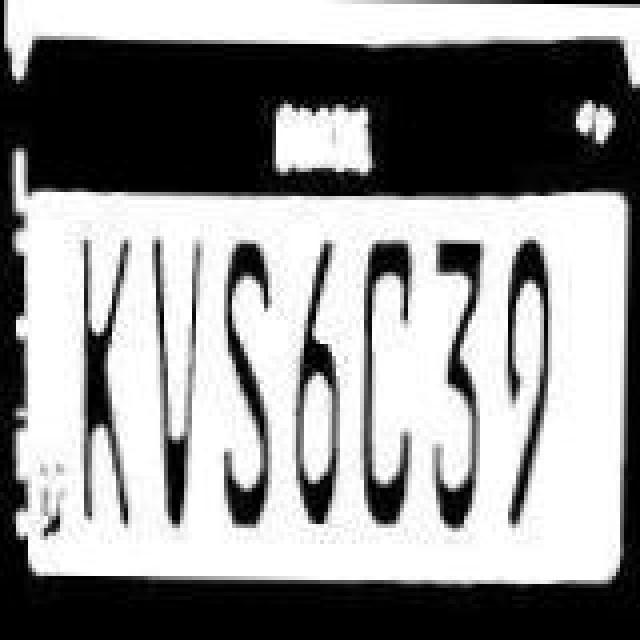3: (430, 222, 498, 526)
6: (288, 232, 348, 528)
9: (492, 222, 560, 538)
C: (346, 232, 426, 532)
K: (68, 236, 144, 532)
S: (208, 232, 284, 532)
V: (144, 238, 212, 526)
